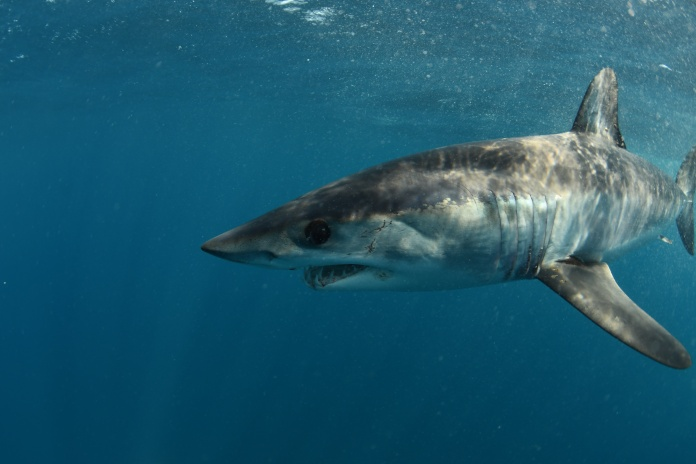Mako: (193, 62, 696, 371)
